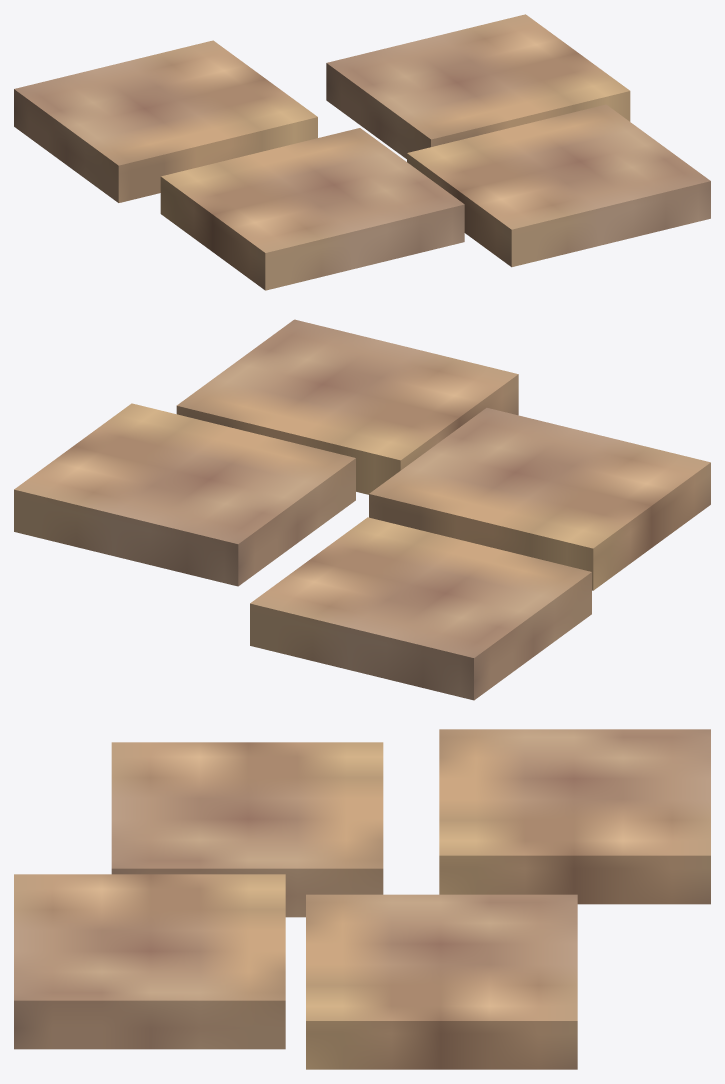
Rendered from Brick03.fbx.
The picture shows the model from 3 angles, top to bottom: view 1: azimuth 30°, elevation 25°; view 2: azimuth 150°, elevation 25°; view 3: azimuth 270°, elevation 25°; orthographic projection. The views are drawn at different scales.
Visible parts, largest first — view 1: Brick03; view 2: Brick03; view 3: Brick03.
Part boxes in pixels (bbox=[...]): Brick03: bbox=[14, 14, 710, 290]; Brick03: bbox=[14, 319, 710, 700]; Brick03: bbox=[14, 729, 710, 1069].
Bounding box in the file's own units: 52.68 × 4.11 × 53.23.
